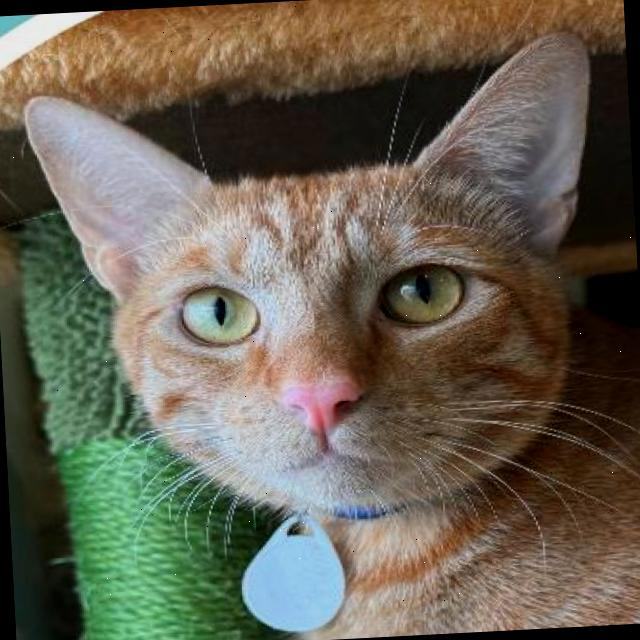domestic_short_hair_cat: (0, 13, 632, 548)
